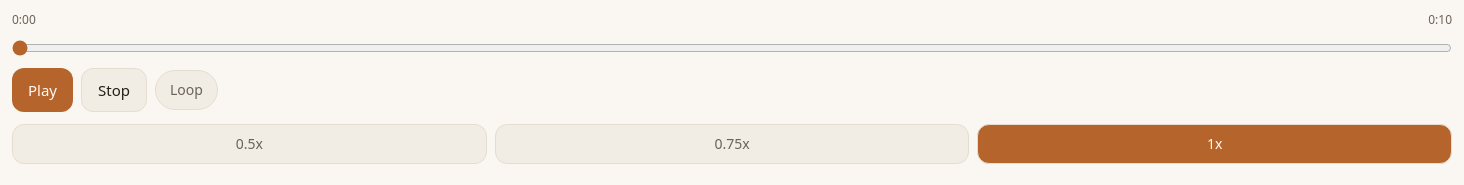
Test case: AudioSegmentPlayer › switches the selected playback speed on tap
Click the button "0.75x" at (732,144), box [495,124,969,164]
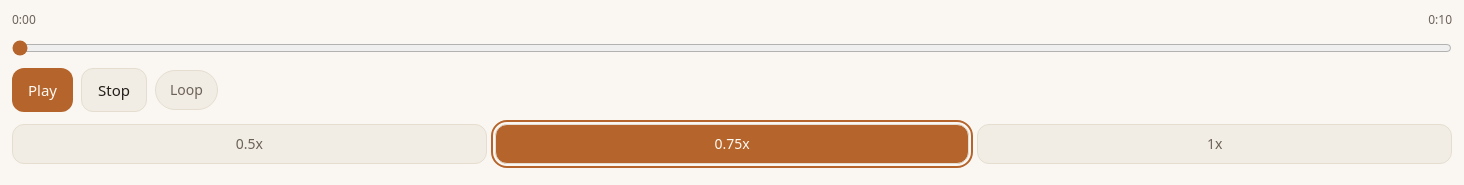
expect the button "0.75x" is pressed: met, box [495,124,969,164]
expect the button "1x" is not pressed: met, box [977,124,1452,164]
